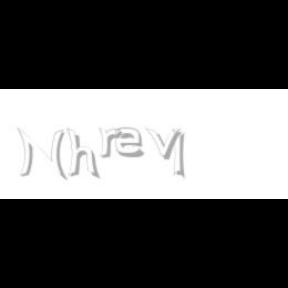I: (172, 128, 186, 180)
N: (16, 128, 66, 180)
e: (115, 128, 148, 158)
h: (66, 128, 102, 180)
r: (98, 128, 126, 158)
v: (145, 128, 185, 160)
